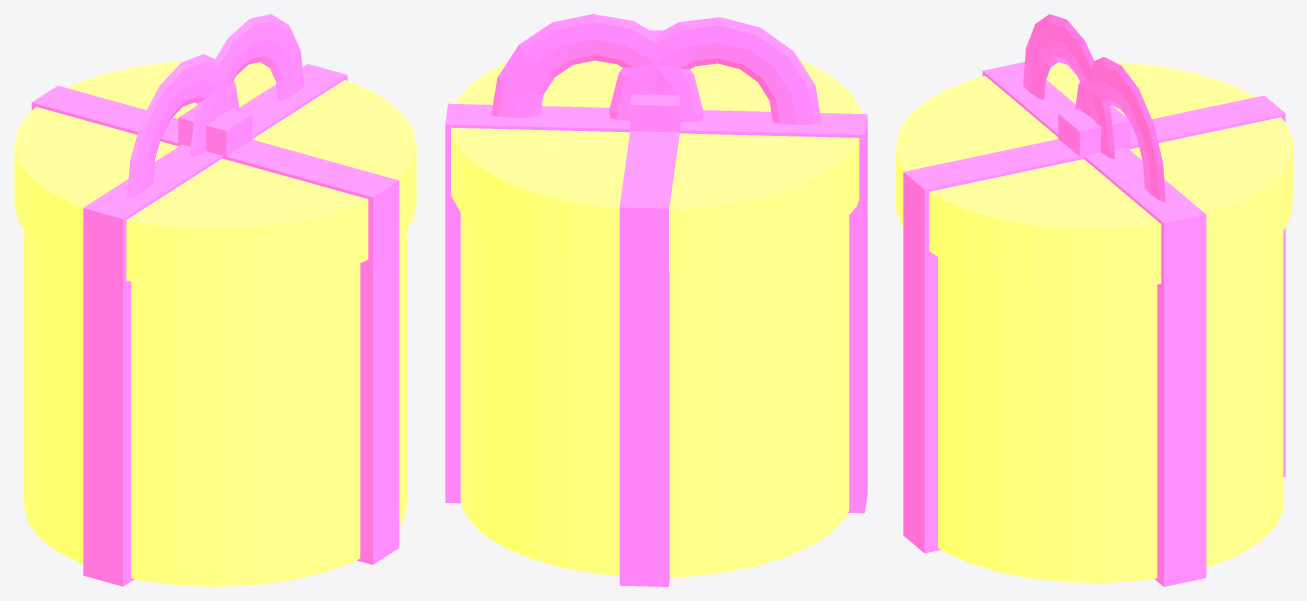
The model's file is Tmpl_Round_Root_218.glb.
3 renders of one model, left to right at view 1: azimuth 30°, elevation 25°; view 2: azimuth 150°, elevation 25°; view 3: azimuth 270°, elevation 25°, orthographic. The views are drawn at different scales.
Visible parts, largest first — view 1: Tmpl_Round_Base.216, Tmpl_Round_Lid.216, Tmpl_Round_Ribbon_X.216, Tmpl_Round_Ribbon_Y.216, Tmpl_Round_BowL.216, Tmpl_Round_BowR.216, Tmpl_Round_BowKnot.216; view 2: Tmpl_Round_Base.216, Tmpl_Round_Lid.216, Tmpl_Round_Ribbon_Y.216, Tmpl_Round_Ribbon_X.216, Tmpl_Round_BowL.216, Tmpl_Round_BowR.216, Tmpl_Round_BowKnot.216; view 3: Tmpl_Round_Base.216, Tmpl_Round_Lid.216, Tmpl_Round_Ribbon_X.216, Tmpl_Round_Ribbon_Y.216, Tmpl_Round_BowR.216, Tmpl_Round_BowL.216, Tmpl_Round_BowKnot.216.
Part boxes in pixels (x1,y1,x2,y2): Tmpl_Round_Base.216: [24, 230, 406, 586]; Tmpl_Round_Lid.216: [14, 60, 416, 289]; Tmpl_Round_Ribbon_X.216: [83, 64, 347, 586]; Tmpl_Round_Ribbon_Y.216: [31, 85, 399, 564]; Tmpl_Round_BowL.216: [190, 14, 303, 157]; Tmpl_Round_BowR.216: [127, 54, 239, 197]; Tmpl_Round_BowKnot.216: [178, 106, 252, 159]; Tmpl_Round_Base.216: [460, 213, 849, 577]; Tmpl_Round_Lid.216: [451, 60, 861, 271]; Tmpl_Round_Ribbon_Y.216: [619, 30, 679, 586]; Tmpl_Round_Ribbon_X.216: [445, 103, 867, 513]; Tmpl_Round_BowL.216: [491, 14, 703, 121]; Tmpl_Round_BowR.216: [609, 17, 821, 124]; Tmpl_Round_BowKnot.216: [630, 94, 680, 132]; Tmpl_Round_Base.216: [938, 232, 1283, 582]; Tmpl_Round_Lid.216: [896, 62, 1292, 288]; Tmpl_Round_Ribbon_X.216: [982, 62, 1206, 586]; Tmpl_Round_Ribbon_Y.216: [903, 95, 1285, 553]; Tmpl_Round_BowR.216: [1023, 14, 1114, 158]; Tmpl_Round_BowL.216: [1075, 57, 1165, 202]; Tmpl_Round_BowKnot.216: [1058, 105, 1130, 159].
Bounding box in the file's own units: 0.8837 × 1.14 × 0.8837.
